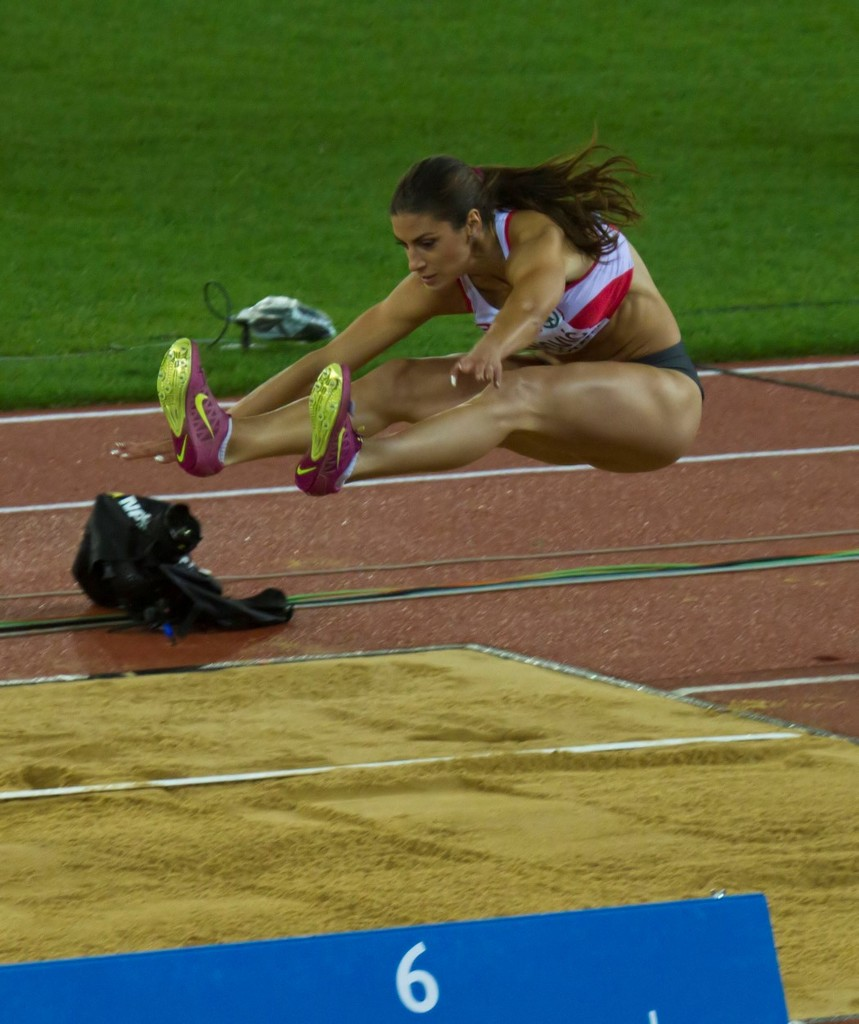Human_hand: (448, 347, 501, 389), (108, 436, 178, 465)
